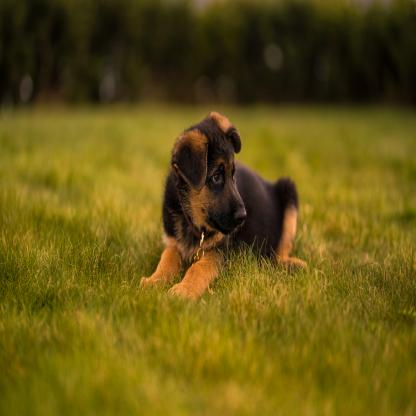dog: (141, 109, 309, 305)
